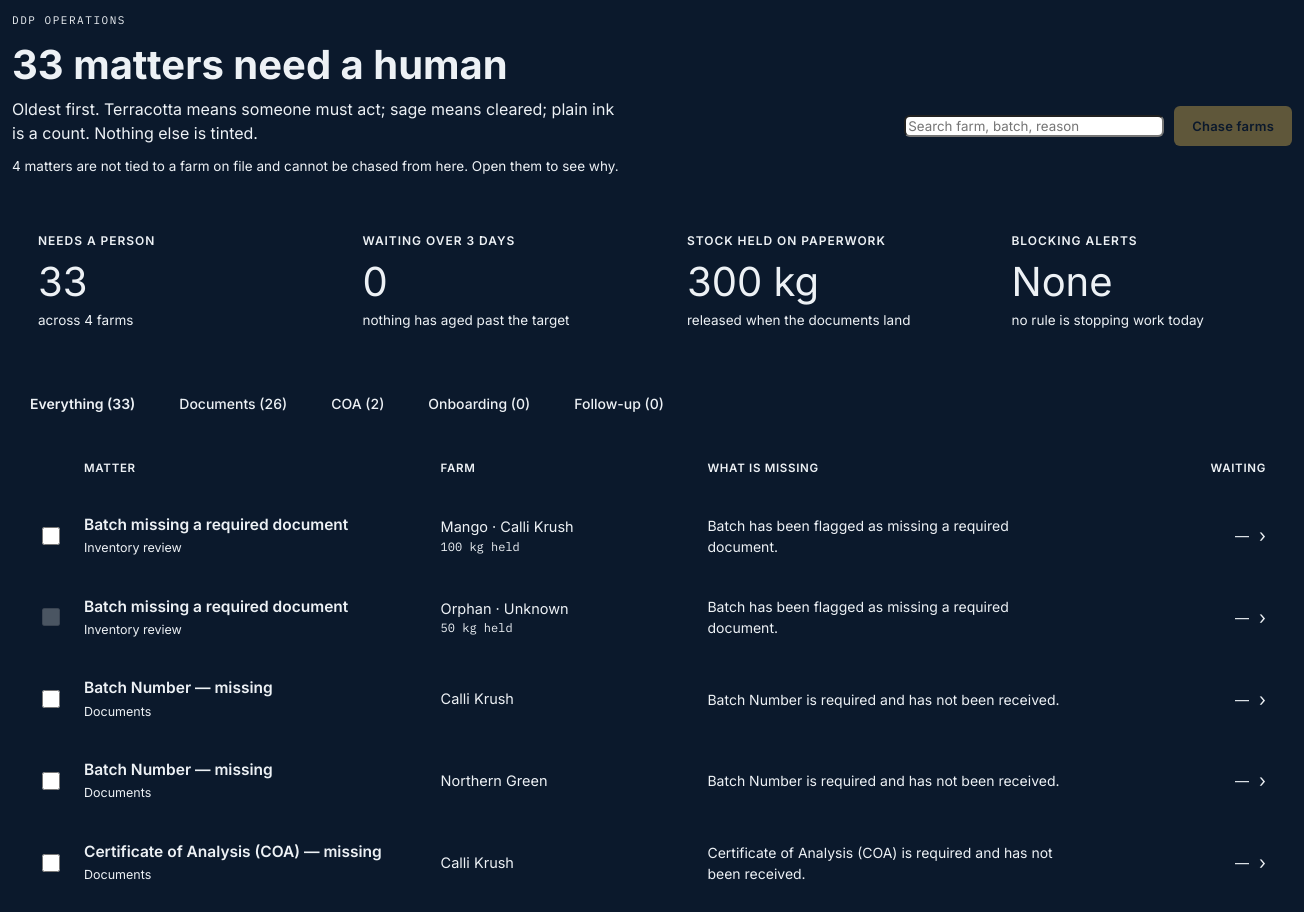
the bulk chase counts farms, not rows › clears the selection after chasing, so a second click cannot re-send
This screenshot has width=1304, height=912.
Click the 1st checkbox named "Select Batch missing a required document".
click(51, 536)  # box [42,527,60,545]
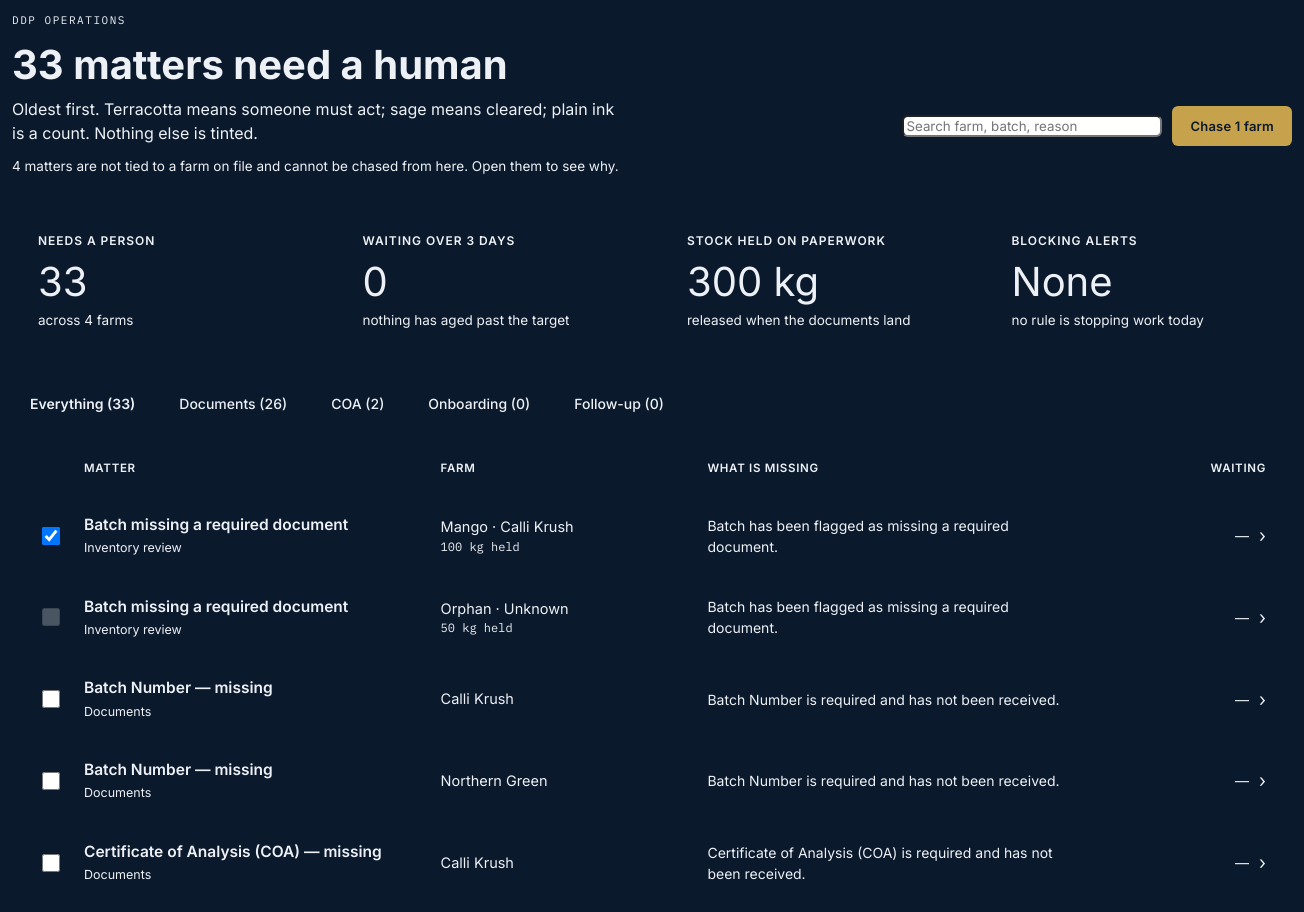
Expected: the button "Chase 1 farm" is enabled
Click the button "Chase 1 farm".
click(1232, 126)  # box [1172,106,1292,146]
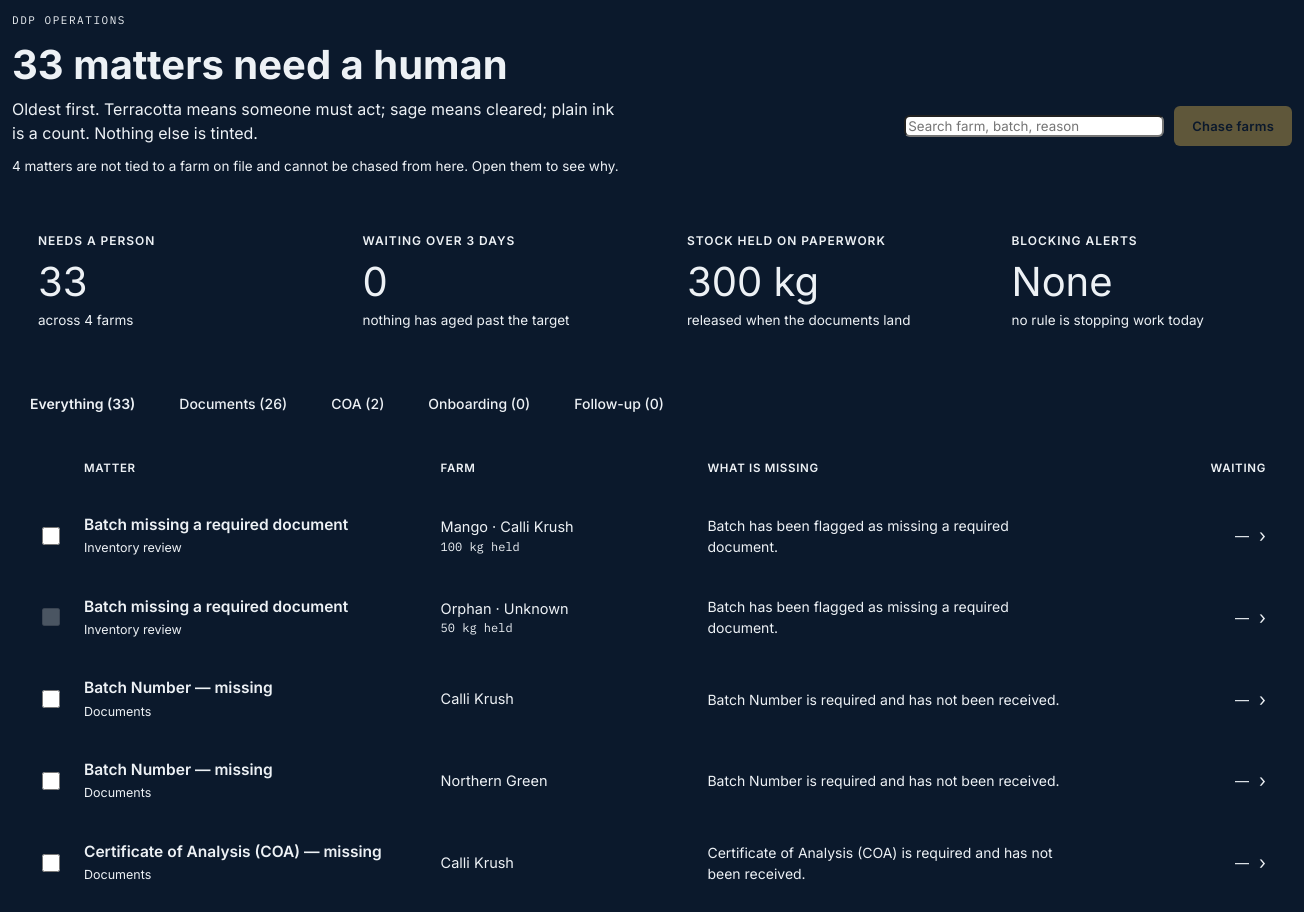
Expected: the button "Chase farms" is disabled, [1174,106,1292,146]
Expected: the button "Chase farms" is shown, [1174,106,1292,146]
